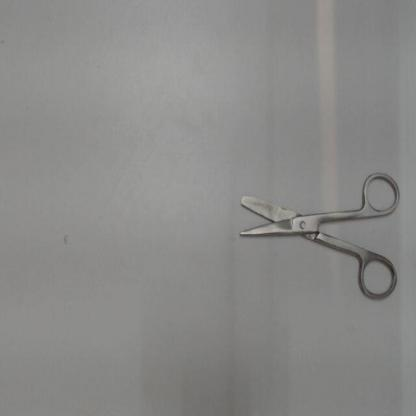Dressing Scissors: (226, 166, 406, 312)
